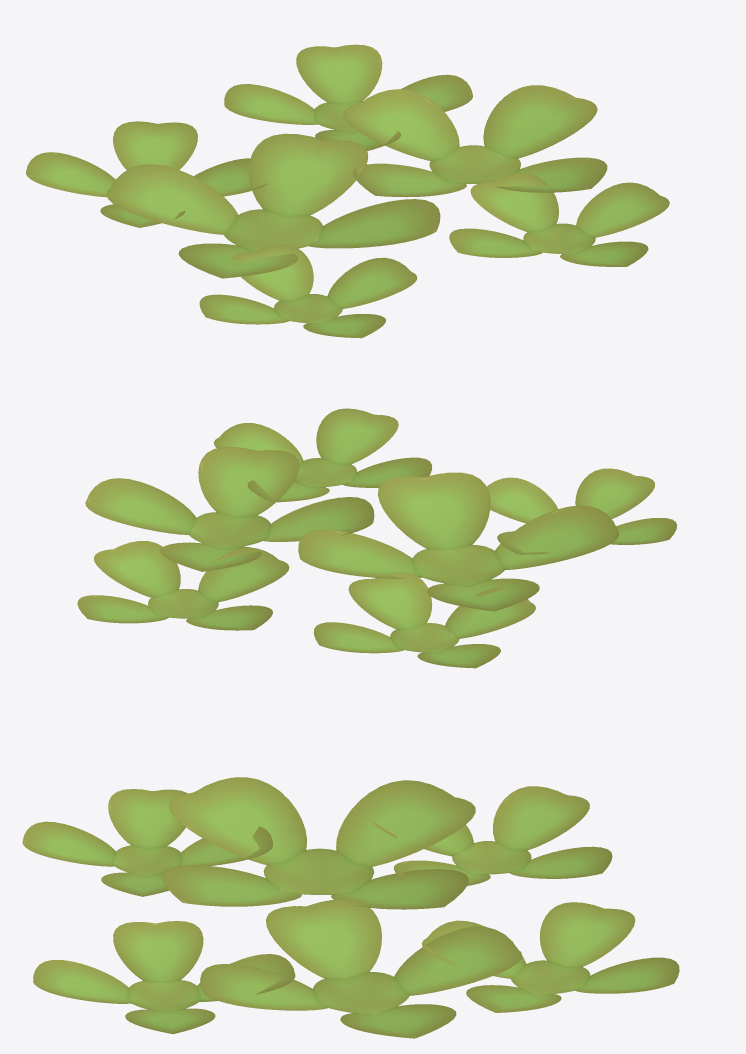
File: mct_foliage_clover02.fbx
The picture shows the model from 3 angles, top to bottom: view 1: azimuth 30°, elevation 25°; view 2: azimuth 150°, elevation 25°; view 3: azimuth 270°, elevation 25°; orthographic projection. The views are drawn at different scales.
Parts seen in each view (by area): view 1: mct_foliage_clover_02; view 2: mct_foliage_clover_02; view 3: mct_foliage_clover_02.
Boxes of the visible parts, x1=… form: mct_foliage_clover_02: x1=26, y1=44, x2=669, y2=338; mct_foliage_clover_02: x1=77, y1=408, x2=676, y2=668; mct_foliage_clover_02: x1=22, y1=777, x2=679, y2=1038.
Bounding box in the file's own units: 125 × 14.96 × 118.
